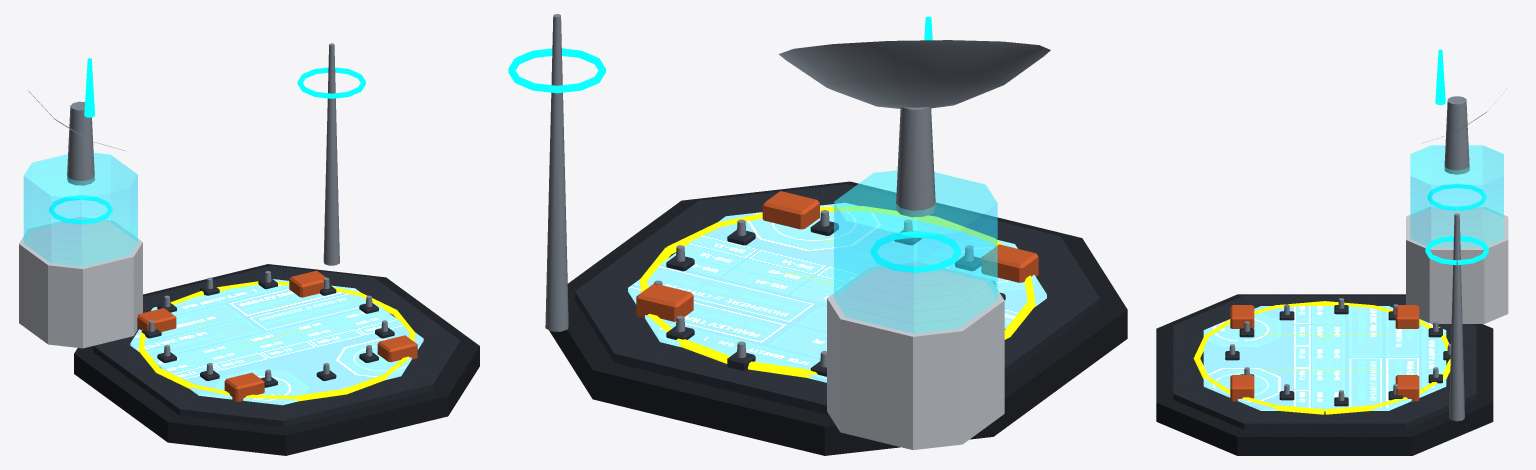
Rendered from prop_05_r1_05.glb.
The picture shows the model from 3 angles, left to right: view 1: azimuth 30°, elevation 25°; view 2: azimuth 150°, elevation 25°; view 3: azimuth 270°, elevation 25°; orthographic projection. The views are drawn at different scales.
Visible parts, largest first — view 1: Prop05_C05_marquee, Prop05_C05_carbon_slate, Prop05_C05_gunmetal, Prop05_C05_aero_white, Prop05_C05_glass_cyan, Prop05_C05_steel_machined, Prop05_C05_accent_orange, Prop05_C05_led_amber, Prop05_C05_led_cyan; view 2: Prop05_C05_aero_white, Prop05_C05_marquee, Prop05_C05_carbon_slate, Prop05_C05_gunmetal, Prop05_C05_steel_machined, Prop05_C05_glass_cyan, Prop05_C05_accent_orange, Prop05_C05_led_amber, Prop05_C05_led_cyan; view 3: Prop05_C05_marquee, Prop05_C05_gunmetal, Prop05_C05_carbon_slate, Prop05_C05_aero_white, Prop05_C05_glass_cyan, Prop05_C05_steel_machined, Prop05_C05_led_amber, Prop05_C05_accent_orange, Prop05_C05_led_cyan.
Part boxes in pixels (x1,y1,x2,y2): Prop05_C05_marquee: [130, 279, 423, 405]; Prop05_C05_carbon_slate: [93, 265, 460, 427]; Prop05_C05_gunmetal: [74, 264, 479, 455]; Prop05_C05_aero_white: [19, 217, 142, 348]; Prop05_C05_glass_cyan: [23, 152, 137, 266]; Prop05_C05_steel_machined: [28, 43, 387, 380]; Prop05_C05_accent_orange: [137, 270, 417, 401]; Prop05_C05_led_amber: [138, 281, 415, 401]; Prop05_C05_led_cyan: [49, 58, 365, 224]; Prop05_C05_aero_white: [827, 262, 1004, 449]; Prop05_C05_marquee: [628, 203, 1046, 382]; Prop05_C05_carbon_slate: [575, 184, 1099, 414]; Prop05_C05_gunmetal: [549, 181, 1127, 455]; Prop05_C05_steel_machined: [545, 14, 1050, 367]; Prop05_C05_glass_cyan: [834, 170, 997, 333]; Prop05_C05_accent_orange: [636, 191, 1038, 321]; Prop05_C05_led_amber: [639, 206, 1036, 377]; Prop05_C05_led_cyan: [508, 16, 960, 272]; Prop05_C05_marquee: [1203, 306, 1446, 410]; Prop05_C05_gunmetal: [1156, 294, 1493, 455]; Prop05_C05_carbon_slate: [1173, 295, 1476, 429]; Prop05_C05_aero_white: [1406, 207, 1508, 323]; Prop05_C05_glass_cyan: [1410, 145, 1503, 247]; Prop05_C05_steel_machined: [1229, 95, 1501, 421]; Prop05_C05_led_amber: [1193, 301, 1450, 414]; Prop05_C05_accent_orange: [1230, 305, 1419, 401]; Prop05_C05_led_cyan: [1425, 49, 1488, 265].
Size of the model in its own units: 5.75 by 4.88 by 5.53.
9 materials, 9 textured.
